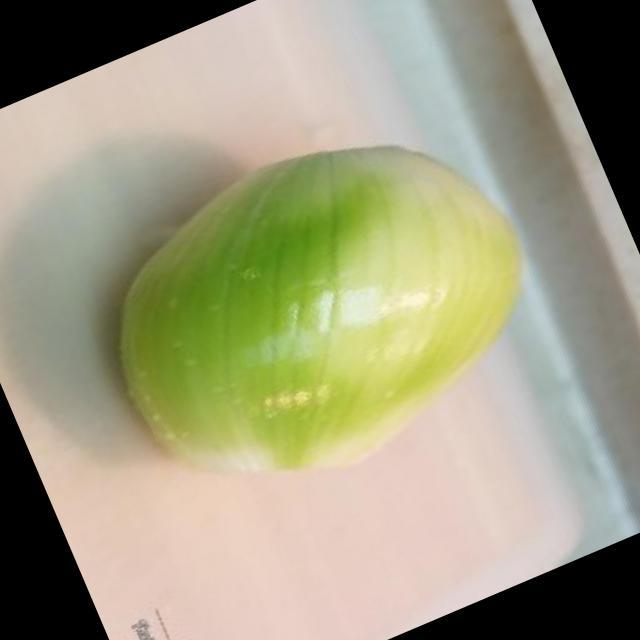Onion: (113, 146, 520, 470)
